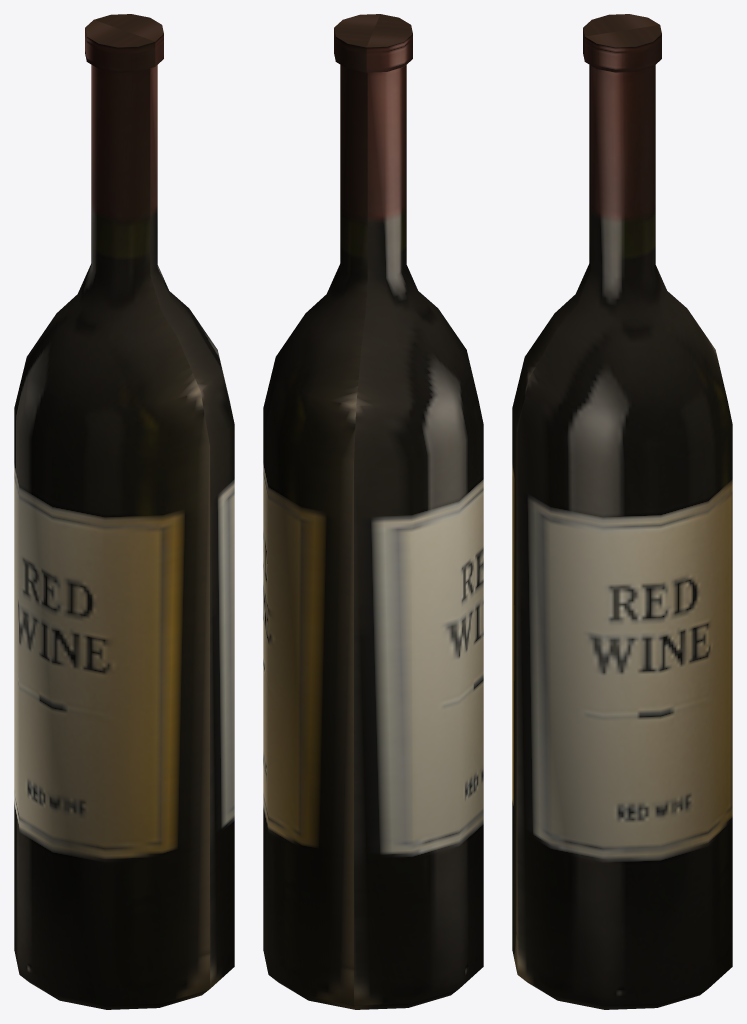
Rendered from wine.glb.
3 renders of one model, left to right at view 1: azimuth 30°, elevation 25°; view 2: azimuth 150°, elevation 25°; view 3: azimuth 270°, elevation 25°, orthographic.
Visible parts, largest first — view 1: Circle.007_atlas_kitchen_0; view 2: Circle.007_atlas_kitchen_0; view 3: Circle.007_atlas_kitchen_0.
Part boxes in pixels (x1,y1,x2,y2): Circle.007_atlas_kitchen_0: [14, 14, 234, 1009]; Circle.007_atlas_kitchen_0: [263, 14, 483, 1009]; Circle.007_atlas_kitchen_0: [512, 14, 732, 1009].
Bounding box in the file's own units: 0.1576 × 0.74 × 0.1576.
1 material, 1 textured.
